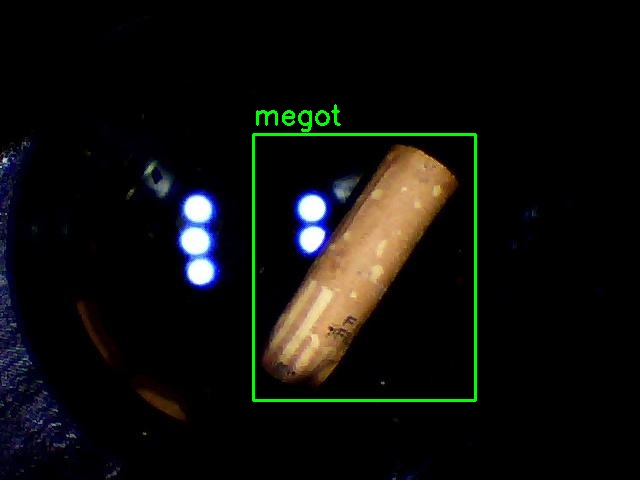megot: (253, 134, 475, 400)
